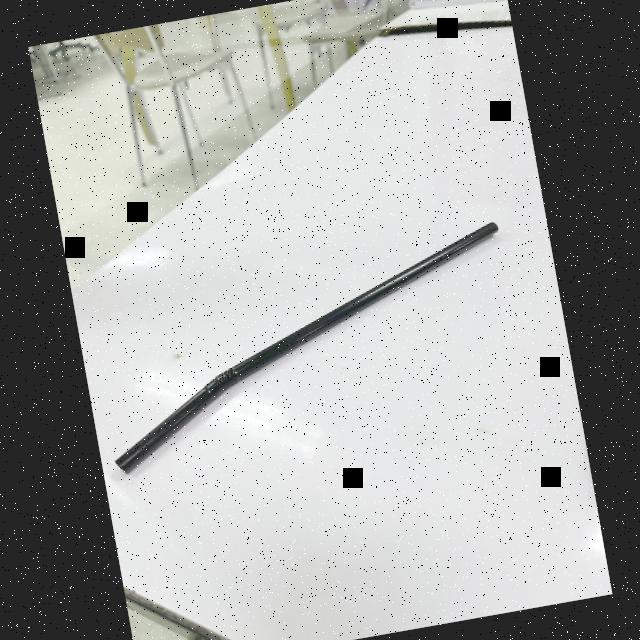straw: (82, 212, 535, 481)
